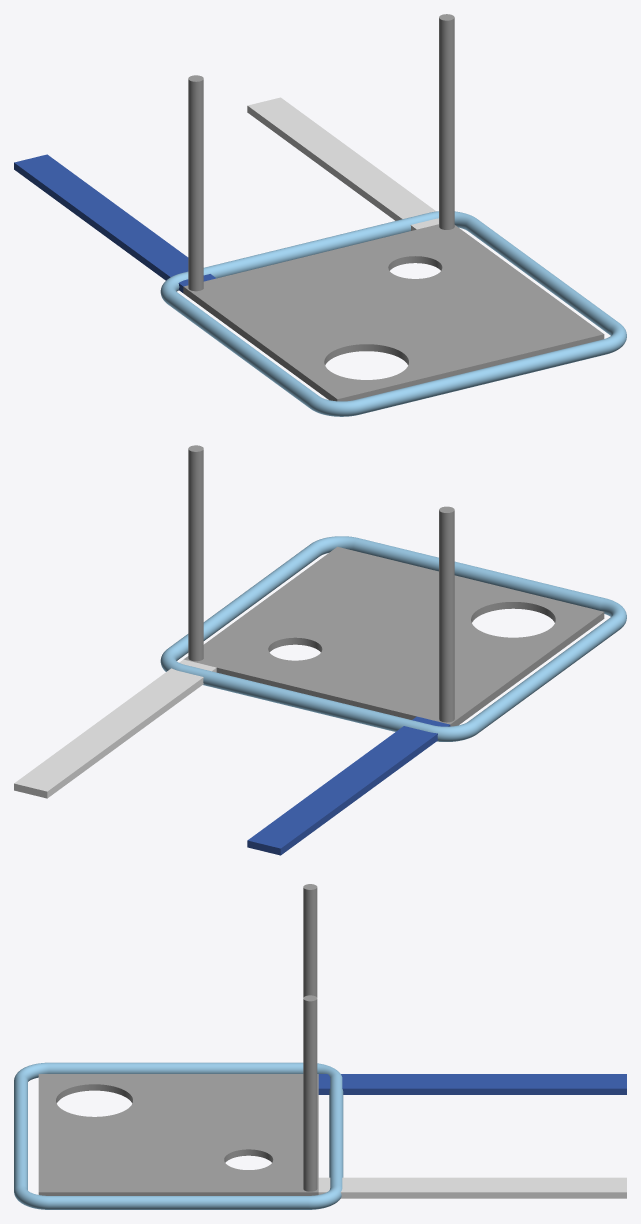
File: torpedo_task.obj
3 views of the same model, one above another, from view 1: azimuth 30°, elevation 25°; view 2: azimuth 150°, elevation 25°; view 3: azimuth 270°, elevation 25° (orthographic). The views are drawn at different scales.
Parts seen in each view (by area): view 1: mesh2, mesh19, mesh12, mesh31, mesh1, mesh10, mesh27, mesh25, mesh29, mesh6, mesh15, mesh18 (+3 smaller); view 2: mesh2, mesh19, mesh12, mesh27, mesh31, mesh1, mesh10, mesh25, mesh29, mesh18, mesh15, mesh7 (+3 smaller); view 3: mesh2, mesh19, mesh12, mesh29, mesh25, mesh10, mesh13, mesh20, mesh1, mesh27, mesh31, mesh5 (+3 smaller).
Part boxes in pixels (box(x1,y1,x2,y2)): mesh2: box(183, 224, 603, 399); mesh19: box(247, 97, 438, 229); mesh12: box(14, 154, 216, 286); mesh31: box(356, 339, 607, 414); mesh1: box(188, 79, 203, 291); mesh10: box(439, 18, 454, 229); mesh27: box(183, 213, 433, 279); mesh25: box(166, 291, 318, 407); mesh29: box(466, 218, 618, 334); mesh6: box(337, 334, 604, 401); mesh15: box(14, 163, 183, 292); mesh18: box(247, 106, 416, 230); mesh2: box(183, 546, 603, 724); mesh19: box(14, 659, 216, 791); mesh12: box(248, 716, 449, 848); mesh27: box(180, 665, 431, 731); mesh31: box(353, 538, 604, 610); mesh1: box(439, 510, 454, 722); mesh10: box(188, 449, 203, 661); mesh25: box(469, 616, 621, 732); mesh29: box(169, 543, 321, 659); mesh18: box(47, 668, 216, 798); mesh15: box(280, 725, 450, 855); mesh7: box(450, 612, 604, 726); mesh2: box(38, 1074, 318, 1192); mesh19: box(318, 1177, 626, 1192); mesh12: box(318, 1074, 626, 1088); mesh29: box(49, 1196, 308, 1209); mesh25: box(49, 1062, 303, 1073); mesh10: box(303, 999, 317, 1191); mesh13: box(318, 1088, 626, 1094); mesh20: box(318, 1192, 626, 1198); mesh1: box(303, 888, 317, 997); mesh27: box(329, 1075, 343, 1187); mesh31: box(14, 1075, 27, 1189); mesh5: box(38, 1192, 318, 1195).
Bounding box in the file's own units: 0.7163 × 0.4801 × 1.33.
